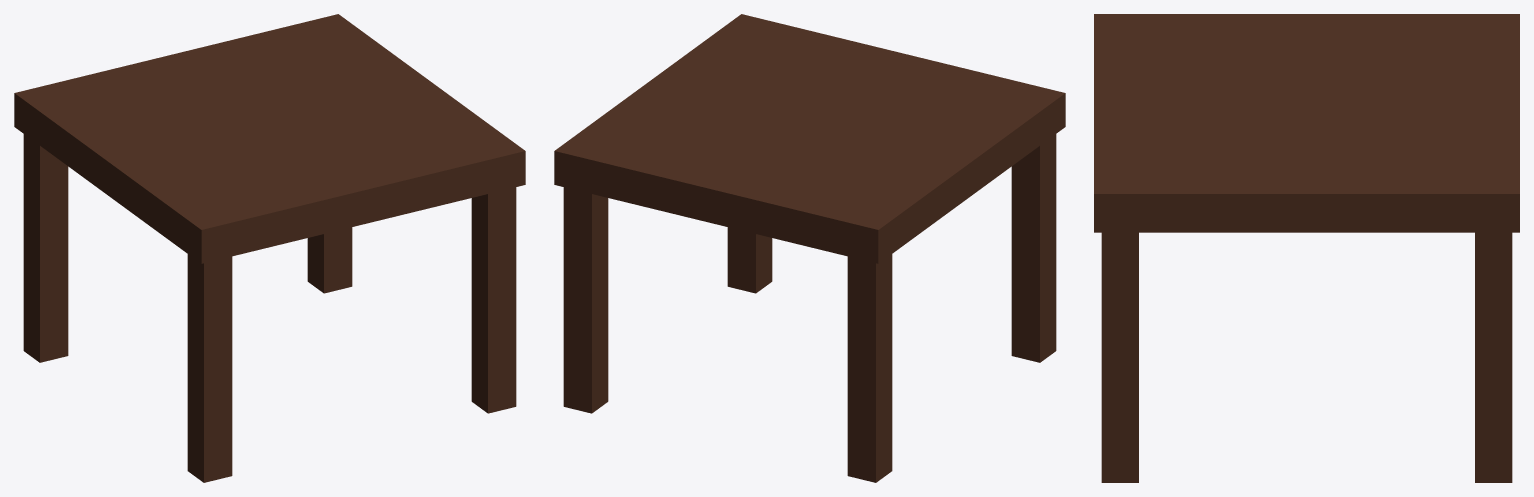
File: Table.glb
The picture shows the model from 3 angles, left to right: view 1: azimuth 30°, elevation 25°; view 2: azimuth 150°, elevation 25°; view 3: azimuth 270°, elevation 25°; orthographic projection. The views are drawn at different scales.
Visible parts, largest first — view 1: Cube; view 2: Cube; view 3: Cube.
Boxes of the visible parts, <box> form: Cube: <box>14,14,525,482</box>; Cube: <box>554,14,1065,482</box>; Cube: <box>1094,14,1519,482</box>.
Size of the model in its own units: 2.87 by 2.17 by 2.87.
